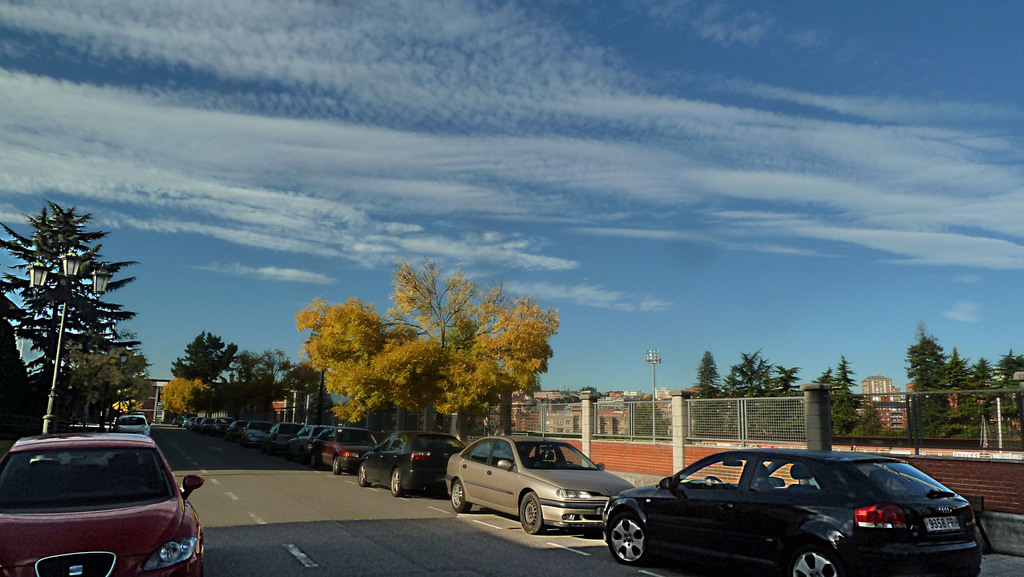Car: (604, 450, 994, 576), (0, 434, 199, 576), (449, 434, 643, 536), (354, 423, 464, 500), (225, 418, 312, 463), (315, 426, 380, 479), (113, 418, 154, 439)
